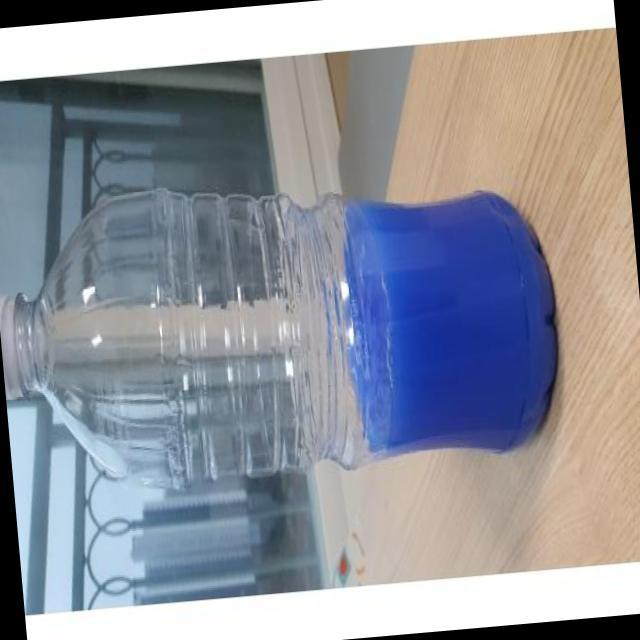good: (0, 158, 593, 514)
